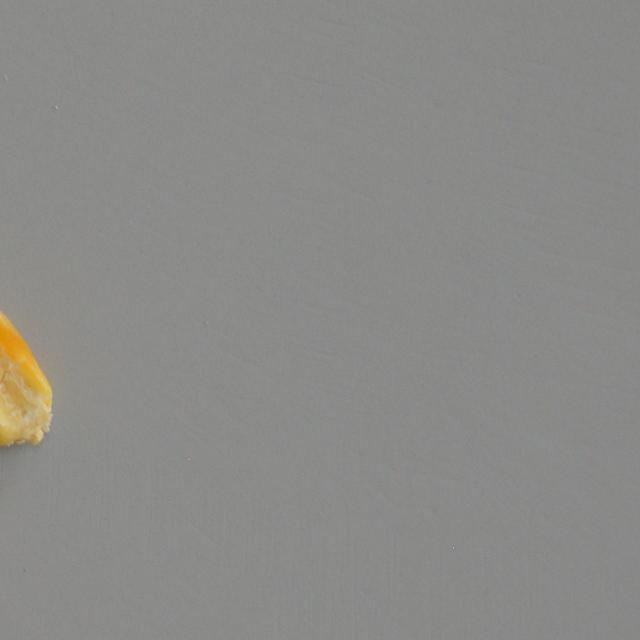no_desgerminado: (0, 294, 60, 450)
